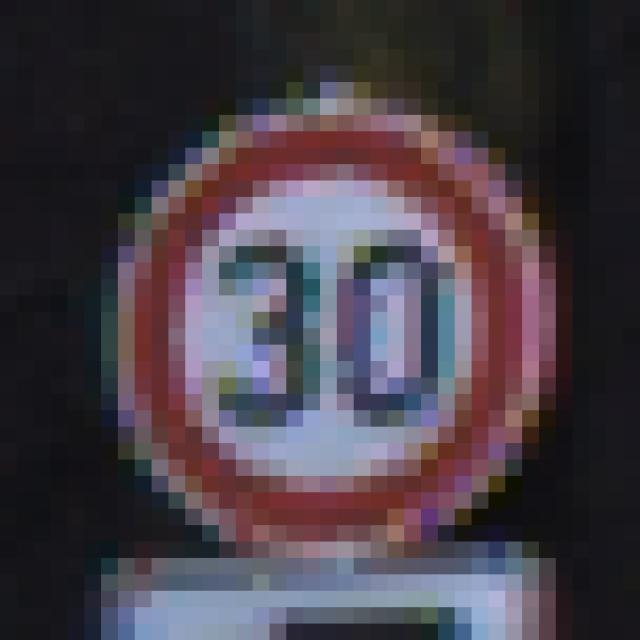Speed Limit -30-: (76, 74, 547, 550)
